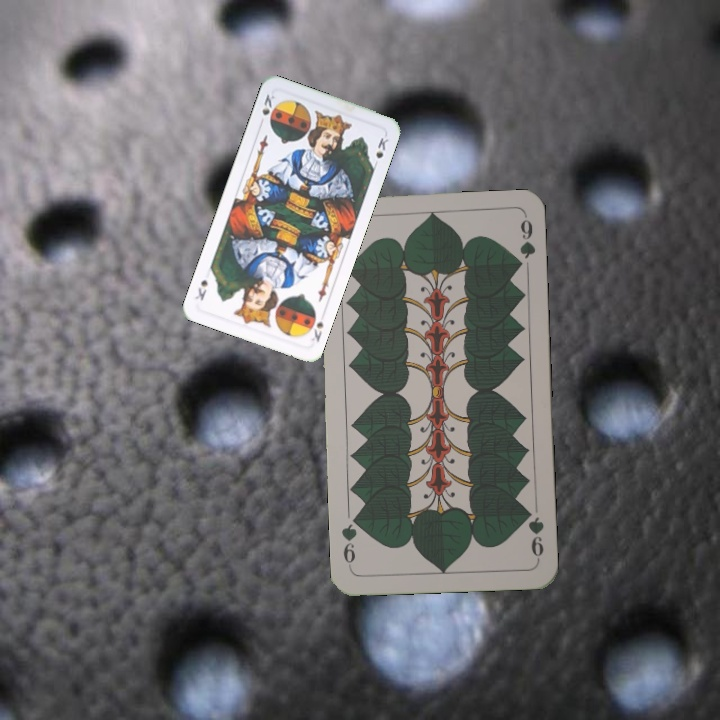G9: (521, 504, 547, 563)
SK: (258, 90, 278, 118), (306, 318, 326, 345)
